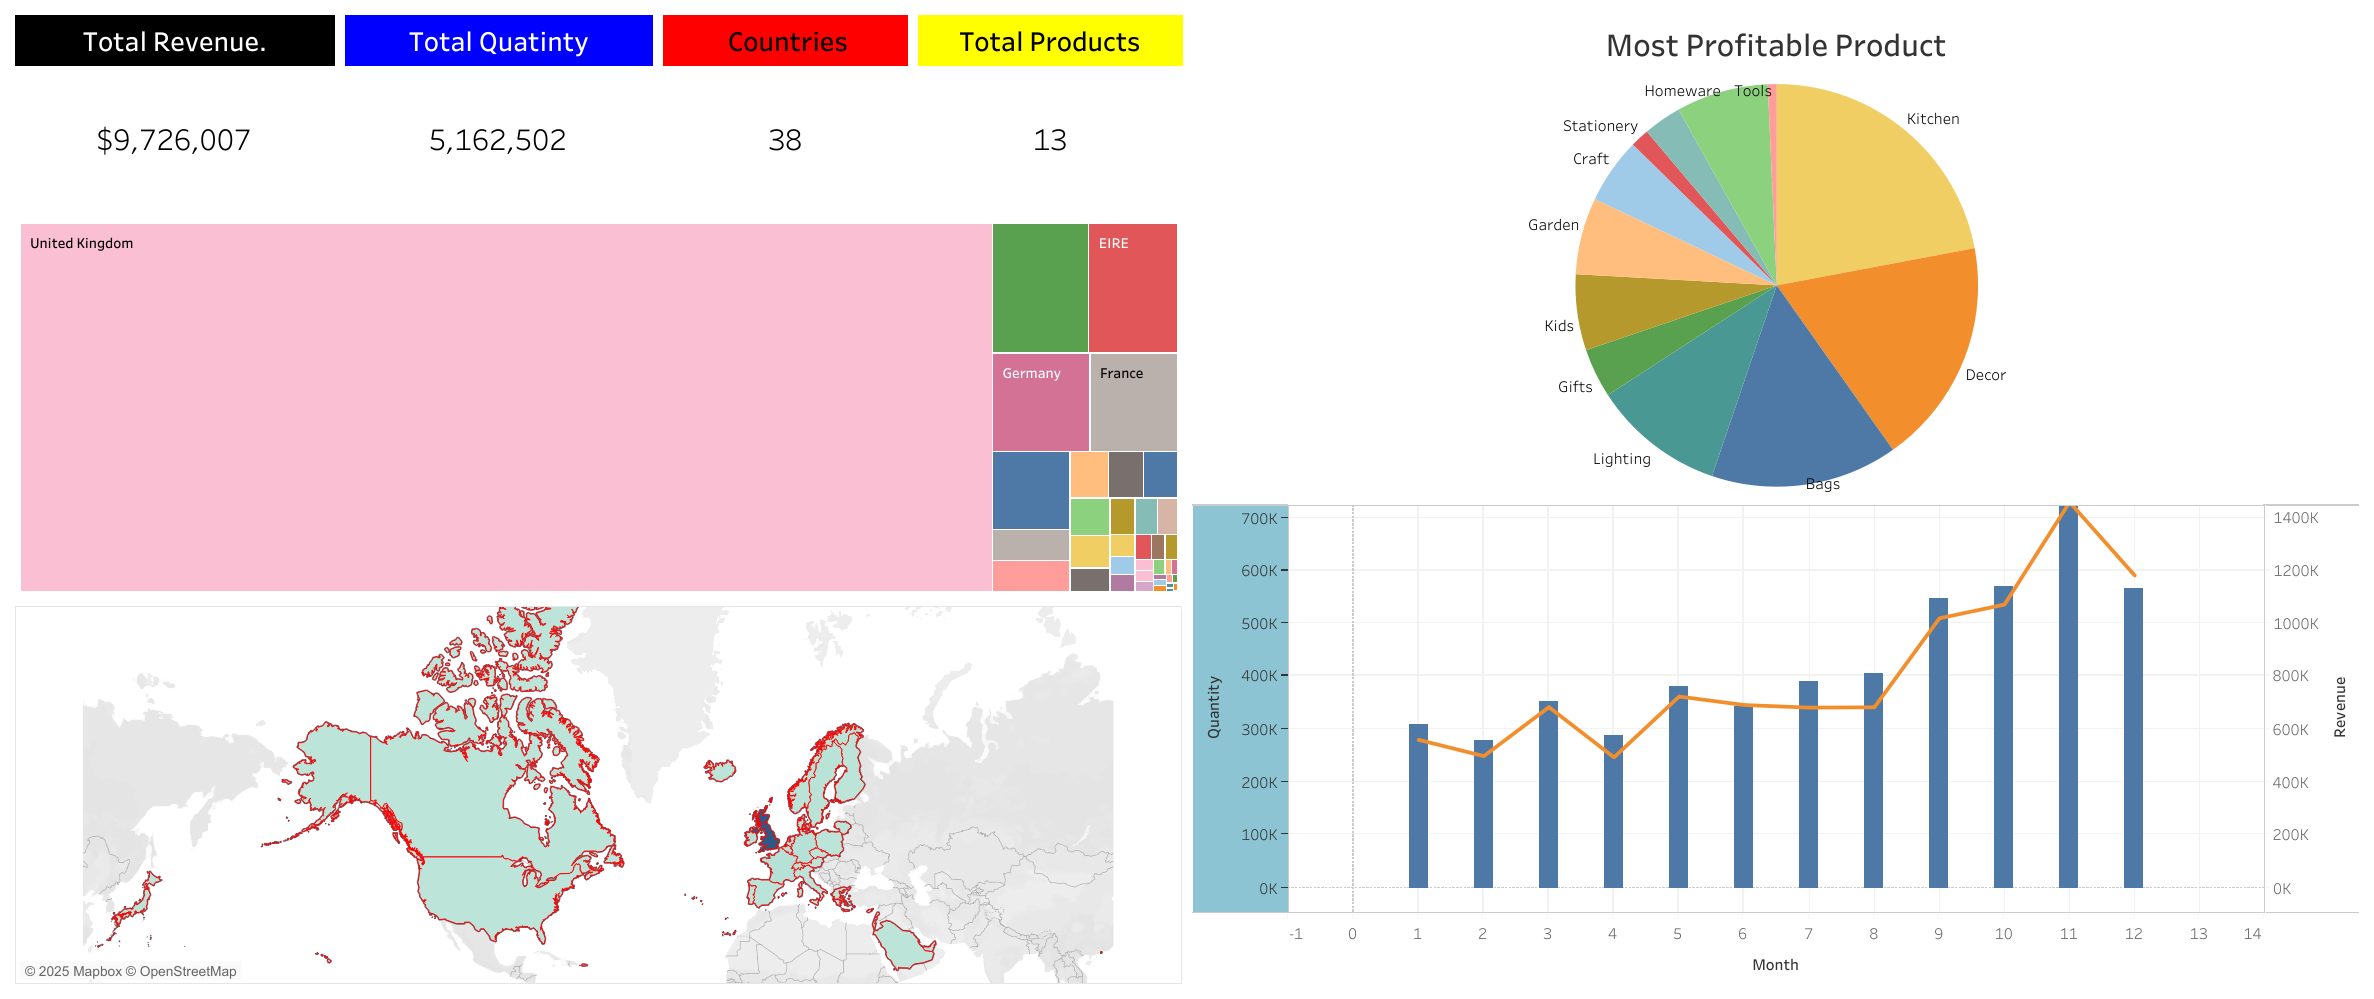

What the dashboard file says about the page in this screenshot:
{"tool":"powerbi","page":{"name":"Online Retail","canvas":[1280,720],"ordinal":0},"visuals":[{"type":"cardVisual","fields":{"Data":["Sum(Online_Retail_edit.Quantity)"]},"box":[548.5,96.9,247.9,128.8],"z":0},{"type":"cardVisual","fields":{"Data":["Count(Online_Retail_edit.category)"]},"box":[382.8,96.9,165.6,128.8],"z":1000},{"type":"cardVisual","fields":{"Data":["Count(Online_Retail_edit.Country)"]},"box":[382.8,0,165.6,119],"z":2000},{"type":"slicer","fields":{"Values":["Online_Retail_edit.category"]},"box":[0,96.9,198.8,65],"z":3000},{"type":"actionButton","box":[0,0,100,40],"z":4000},{"type":"slicer","fields":{"Values":["Online_Retail_edit.Country"]},"box":[0,160.7,198.8,65],"z":5000},{"type":"cardVisual","title":"Revenue 💰","fields":{"Data":["Sum(Online_Retail_edit.Revenue)"]},"box":[548.5,0,247.9,119],"z":6000},{"type":"cardVisual","title":"Revenue 💰","fields":{"Data":["CountNonNull(Online_Retail_edit.CustomerID)"]},"box":[1049.1,0,230.7,119],"z":7000},{"type":"cardVisual","title":"Revenue 💰","fields":{"Data":["Online_Retail_edit.Measure 2"]},"box":[793.9,0,258.9,119],"z":8000},{"type":"cardVisual","title":"Revenue 💰","fields":{"Data":["Online_Retail_edit (2).Measure 3"]},"box":[796.3,96.9,255.2,128.8],"z":9000},{"type":"slicer","fields":{"Values":["Online_Retail_edit.InvoiceDate.1"]},"box":[198.8,96.9,184.1,128.8],"z":10000},{"type":"cardVisual","title":"Revenue 💰","fields":{"Data":["Online_Retail_edit.Average Unit Price"]},"box":[1052.8,96.9,227,128.8],"z":11000},{"type":"cardVisual","title":"Revenue 💰","fields":{"Data":["Count(Power BI.Name)"]},"box":[0,0,408.6,112.9],"z":12000},{"type":"shape","box":[640.5,225.8,639.3,244.2],"z":13000},{"type":"donutChart","title":"Top 5 category","fields":{"Category":["Online_Retail_edit.category"],"Y":["Sum(Online_Retail_edit.Revenue)"]},"box":[710.4,230.7,522.7,234.4],"z":14000},{"type":"shape","box":[0,469.9,640.5,250.3],"z":15000},{"type":"shape","box":[0,225.8,640.5,244.2],"z":18000},{"type":"shape","box":[640.5,469.9,639.3,250.3],"z":19000},{"type":"areaChart","title":" Revenue &  Quantity by month","fields":{"Category":["Online_Retail_edit.month"],"Y":["Sum(Online_Retail_edit.Revenue)"],"Y2":["Sum(Online_Retail_edit.Quantity)"]},"box":[710.4,476.1,522.7,234.4],"z":20000},{"type":"areaChart","title":"Orders by month","fields":{"Category":["Online_Retail_edit.month"],"Y":["CountNonNull(Online_Retail_edit.InvoiceNo)"]},"box":[28.2,484.7,562,225.8],"z":20500},{"type":"clusteredBarChart","title":"Top 5 Countries","fields":{"Category":["Online_Retail_edit.Country"],"Y":["Sum(Online_Retail_edit.Revenue)"]},"box":[28.2,241.7,562,213.5],"z":21000}]}

Visuals, with their boxes on the page's 1280x720 design canvas (x1, y1, x2, y2). These are canvas units, not pixel positions in the 2374x999 screenshot, which may show the page scaled, cropped or inside an application window:
cardVisual - Sum(Online_Retail_edit.Quantity): box(548, 97, 796, 226)
cardVisual - Count(Online_Retail_edit.category): box(383, 97, 548, 226)
cardVisual - Count(Online_Retail_edit.Country): box(383, 0, 548, 119)
slicer - Online_Retail_edit.category: box(0, 97, 199, 162)
actionButton: box(0, 0, 100, 40)
slicer - Online_Retail_edit.Country: box(0, 161, 199, 226)
"Revenue 💰" cardVisual: box(548, 0, 796, 119)
"Revenue 💰" cardVisual: box(1049, 0, 1280, 119)
"Revenue 💰" cardVisual: box(794, 0, 1053, 119)
"Revenue 💰" cardVisual: box(796, 97, 1052, 226)
slicer - Online_Retail_edit.InvoiceDate.1: box(199, 97, 383, 226)
"Revenue 💰" cardVisual: box(1053, 97, 1280, 226)
"Revenue 💰" cardVisual: box(0, 0, 409, 113)
shape: box(640, 226, 1280, 470)
"Top 5 category" donutChart: box(710, 231, 1233, 465)
shape: box(0, 470, 640, 720)
shape: box(0, 226, 640, 470)
shape: box(640, 470, 1280, 720)
" Revenue &  Quantity by month" areaChart: box(710, 476, 1233, 710)
"Orders by month" areaChart: box(28, 485, 590, 710)
"Top 5 Countries" clusteredBarChart: box(28, 242, 590, 455)
